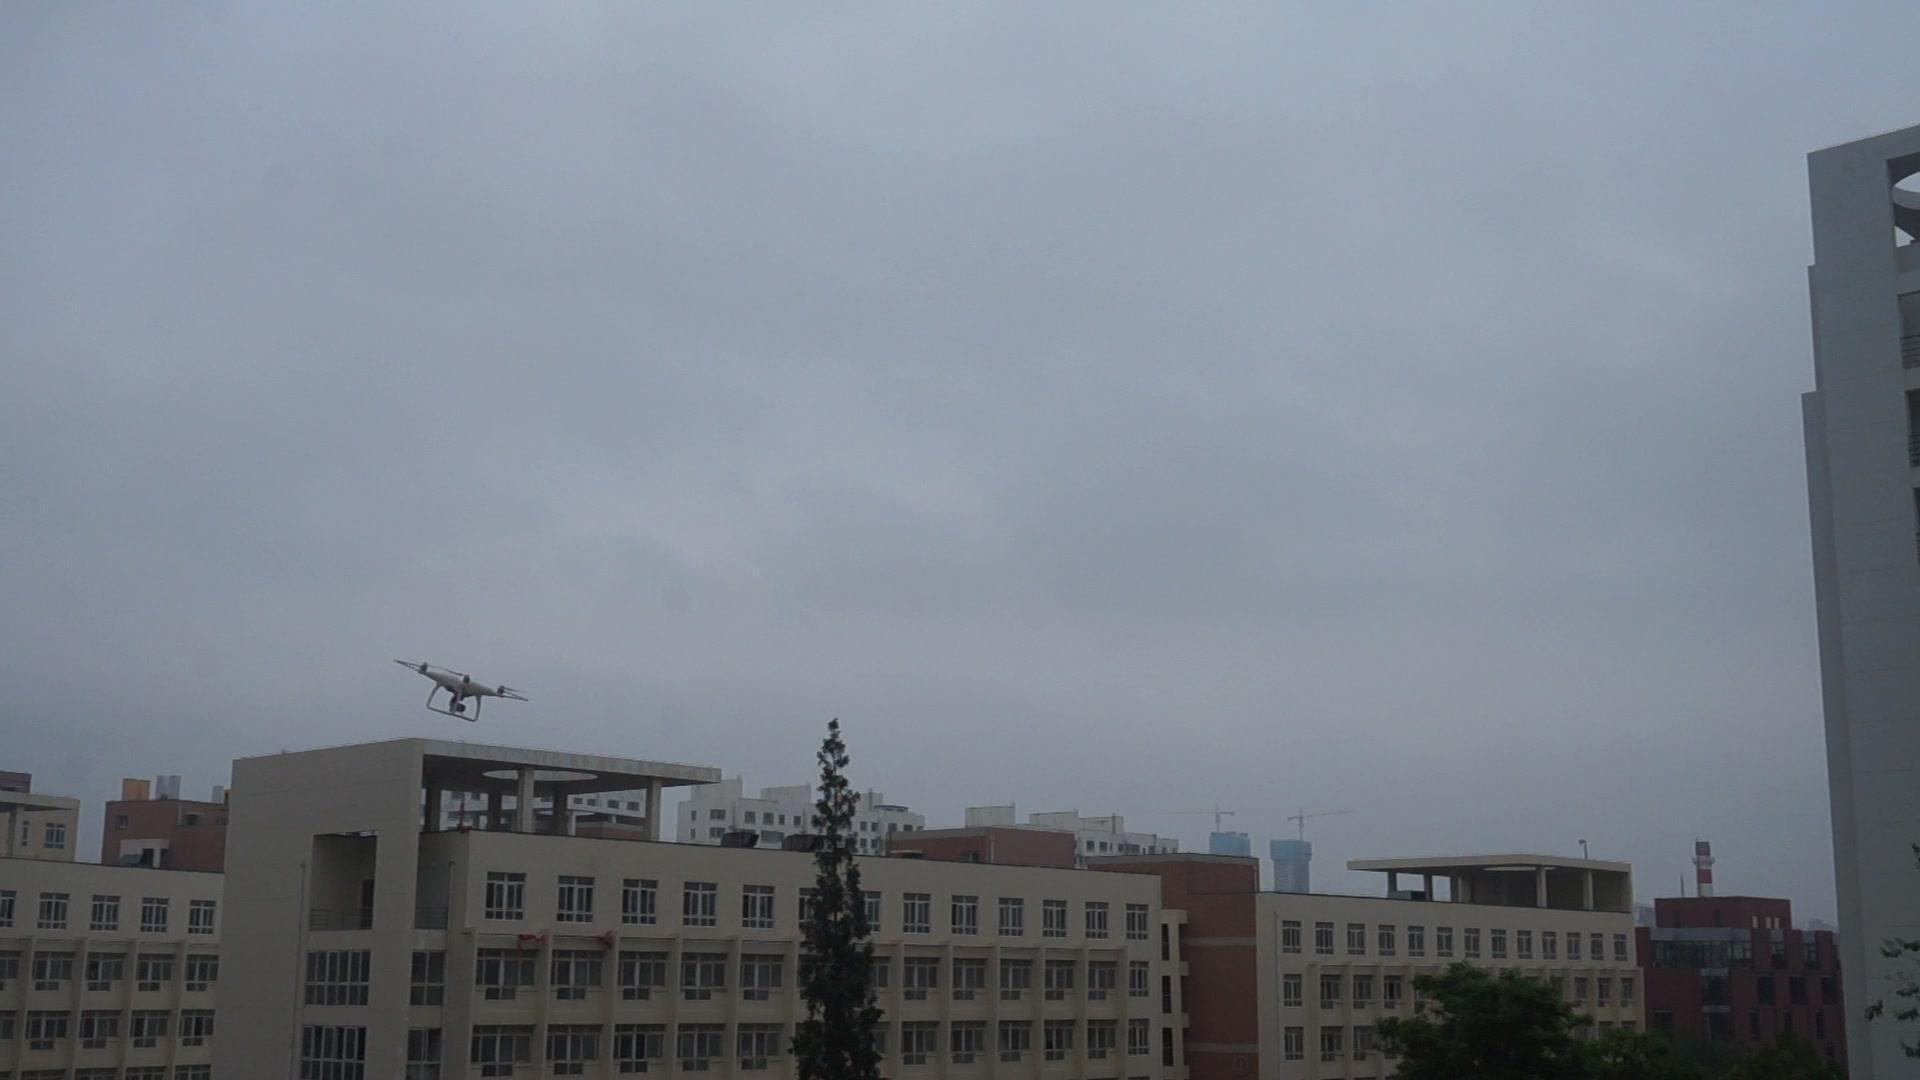UAV: (393, 661, 530, 723)
